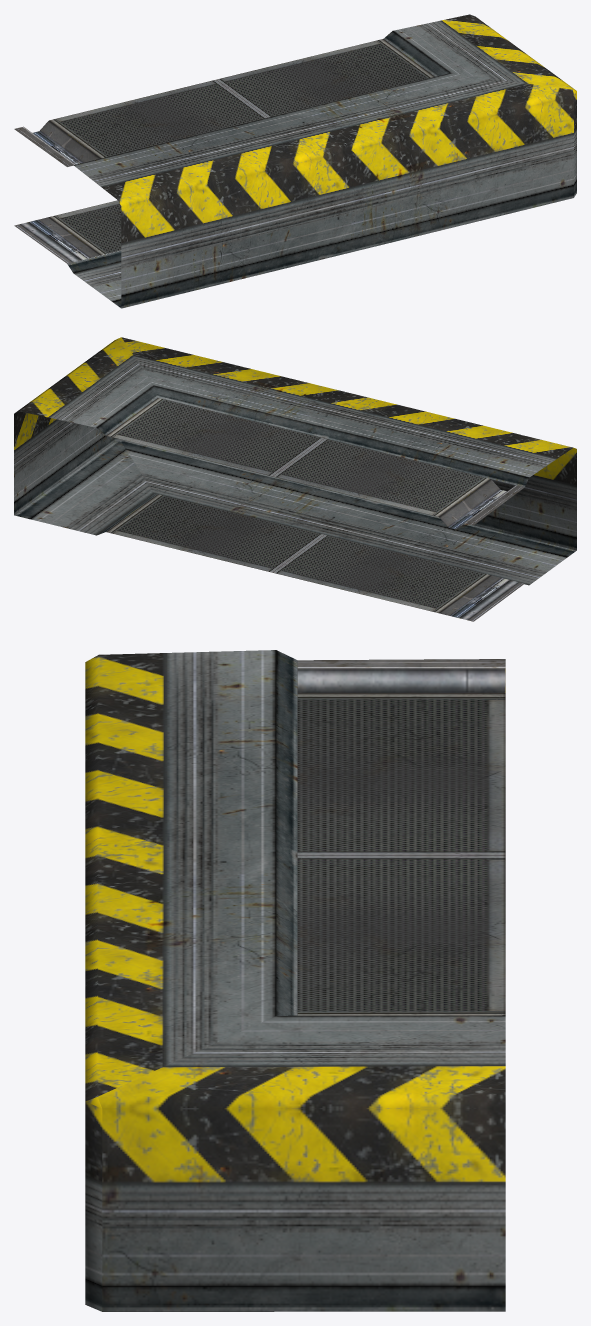
The model's file is FLO_PLatformSolidEdgeSharpRight_1x2'5.FBX.
3 renders of one model, top to bottom at view 1: azimuth 30°, elevation 25°; view 2: azimuth 150°, elevation 25°; view 3: azimuth 270°, elevation 25°, orthographic. The views are drawn at different scales.
Parts seen in each view (by area): view 1: FLO_PLatformSolidEdgeSharpRight_1x2'5; view 2: FLO_PLatformSolidEdgeSharpRight_1x2'5; view 3: FLO_PLatformSolidEdgeSharpRight_1x2'5.
Boxes of the visible parts, x1,y1,x2,y2 form: FLO_PLatformSolidEdgeSharpRight_1x2'5: [14, 14, 576, 308]; FLO_PLatformSolidEdgeSharpRight_1x2'5: [14, 337, 576, 621]; FLO_PLatformSolidEdgeSharpRight_1x2'5: [85, 650, 505, 1311].
Bounding box in the file's own units: 250 × 56.16 × 99.
Materials: 1 (1 with a texture image).
